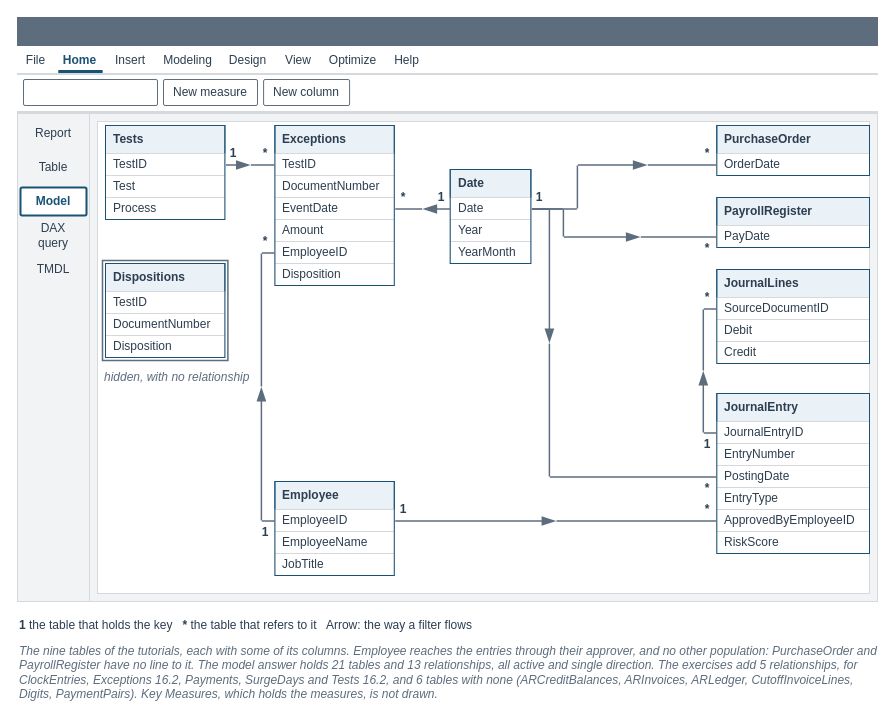
Some shapes in this 895 by 725 pixel diagram are drawn without their labels. The centre of each missing label's shape, as x and y in pixels:
"Chapter 16 Exercises - Solutions - Power BI Desktop" goes at pixel 447 31.
"Manage relationships" goes at pixel 90 92.
